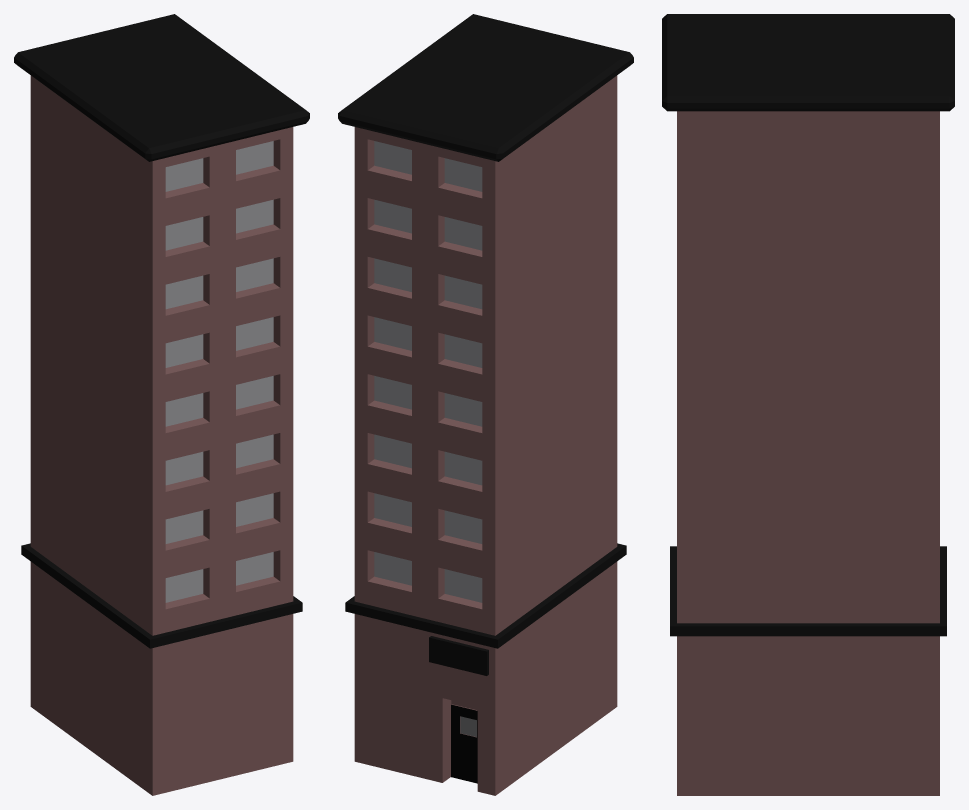
File: flatA.fbx
The picture shows the model from 3 angles, left to right: view 1: azimuth 30°, elevation 25°; view 2: azimuth 150°, elevation 25°; view 3: azimuth 270°, elevation 25°; orthographic projection. The views are drawn at different scales.
Visible parts, largest first — view 1: FlatA; view 2: FlatA; view 3: FlatA.
Boxes of the visible parts, box(x1,y1,x2,y2) form: FlatA: box(14, 14, 309, 795); FlatA: box(338, 14, 633, 795); FlatA: box(662, 14, 954, 795).
Size of the model in its own units: 402 by 1522 by 574.
